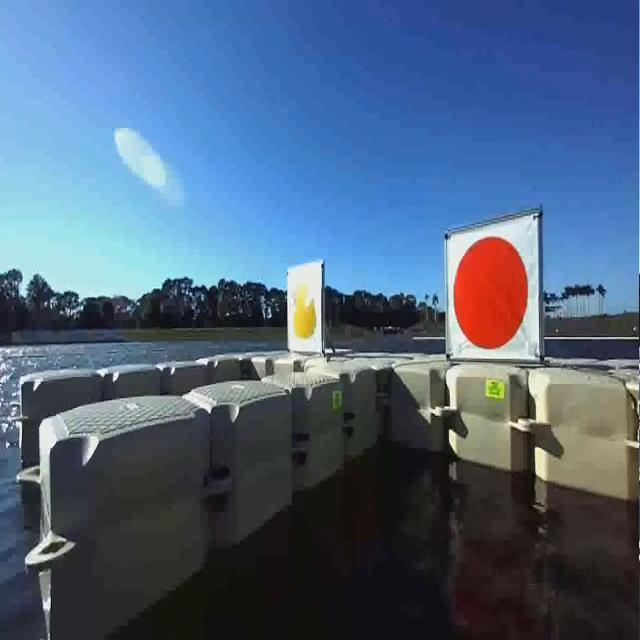red-dot: (447, 233, 534, 360)
yellow-duck: (287, 270, 327, 354)
